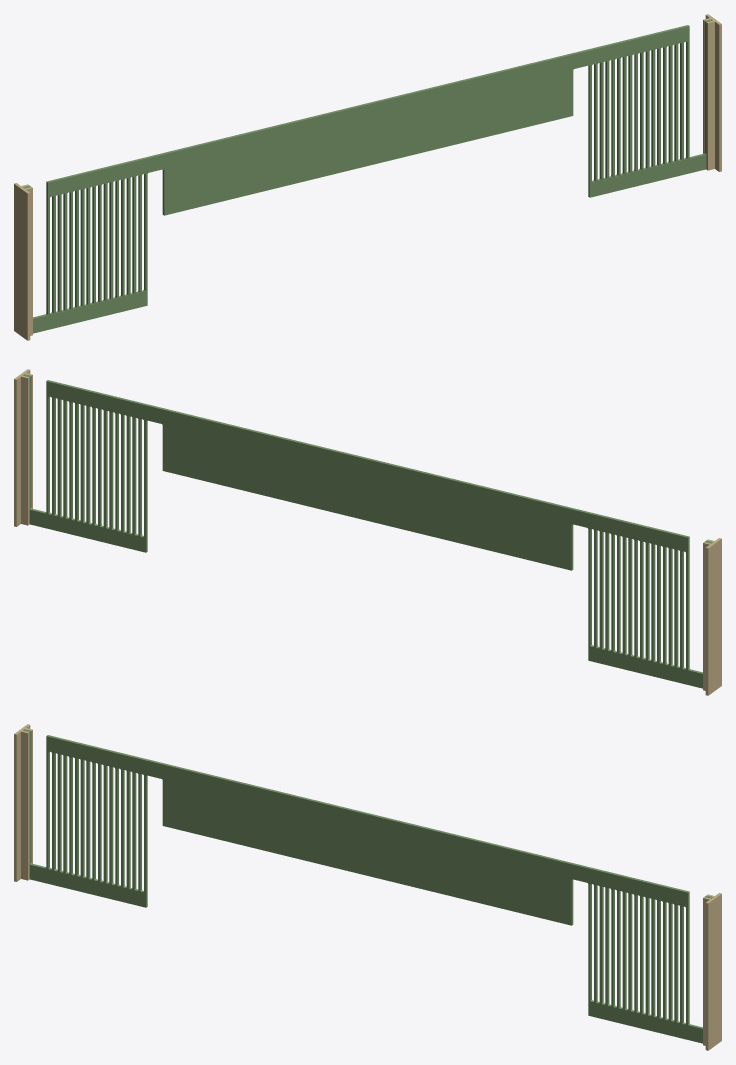
Rendered from divider.glb.
3 renders of one model, top to bottom at view 1: azimuth 30°, elevation 25°; view 2: azimuth 150°, elevation 25°; view 3: azimuth 330°, elevation 25°, orthographic.
Visible parts, largest first — view 1: wall, t_pad_left, t_pad_right; view 2: wall, t_pad_left, t_pad_right; view 3: wall, t_pad_right, t_pad_left.
Boxes of the visible parts, x1,y1,x2,y2 form: wall: [23, 19, 712, 333]; t_pad_left: [14, 183, 32, 340]; t_pad_right: [703, 14, 721, 171]; wall: [23, 374, 712, 688]; t_pad_left: [703, 538, 721, 695]; t_pad_right: [14, 369, 32, 526]; wall: [23, 729, 712, 1043]; t_pad_right: [703, 893, 721, 1050]; t_pad_left: [14, 724, 32, 881].
Size of the model in its own units: 0.296 by 0.06 by 0.01.
